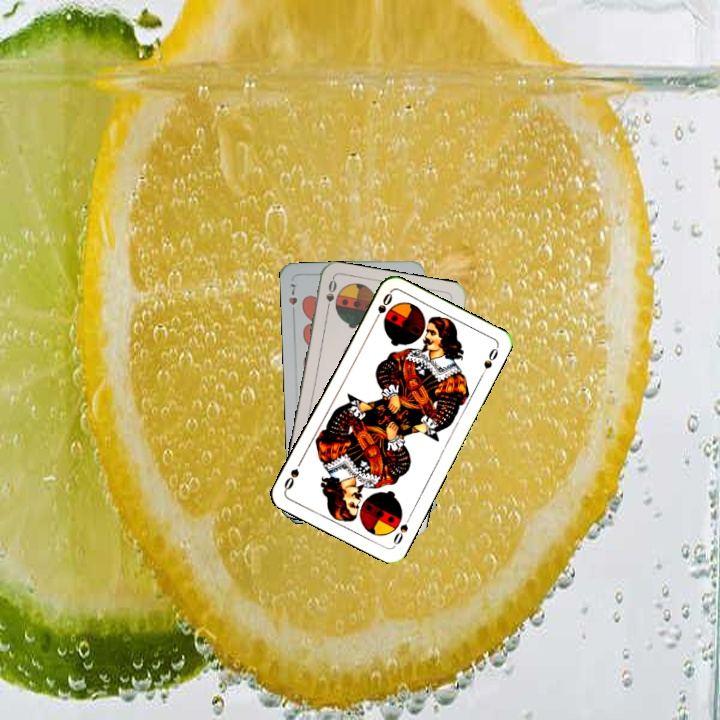H7: (284, 280, 300, 307)
SO: (369, 289, 395, 327), (389, 511, 414, 549), (322, 276, 339, 316)
